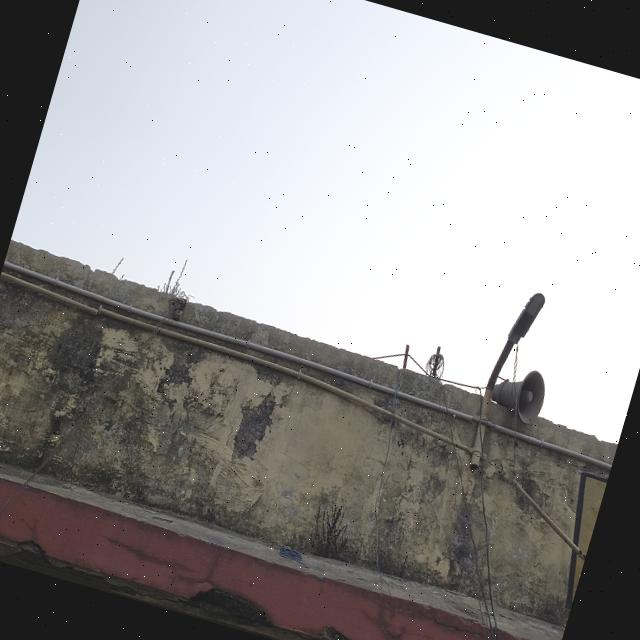Moss growth due to damping: (0, 245, 616, 628)
